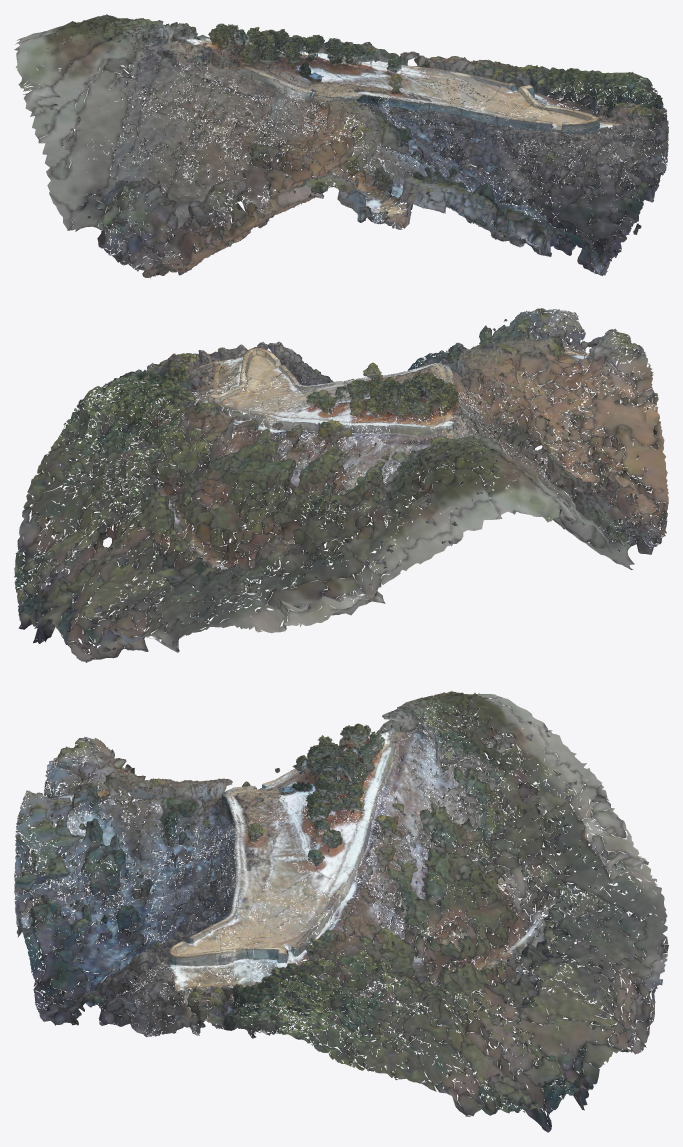
File: scan.glb
3 views of the same model, one above another, from view 1: azimuth 30°, elevation 25°; view 2: azimuth 150°, elevation 25°; view 3: azimuth 270°, elevation 25° (orthographic).
Parts seen in each view (by area): view 1: MeshTransform__0.026, MeshTransform__0.015, MeshTransform__0.023, MeshTransform__0.012, MeshTransform__0.021, MeshTransform__0.014, MeshTransform__0.022, MeshTransform__0.019, MeshTransform__0.032, MeshTransform__0.018, MeshTransform__0.020, MeshTransform__0.033 (+21 smaller); view 2: MeshTransform__0.029, MeshTransform__0.028, MeshTransform__0.002, MeshTransform__0.004, MeshTransform__0.005, MeshTransform__0.001, MeshTransform__0.019, MeshTransform__0.003, MeshTransform__0.021, MeshTransform, MeshTransform__0.026, MeshTransform__0.006 (+17 smaller); view 3: MeshTransform__0.004, MeshTransform__0.002, MeshTransform__0.029, MeshTransform__0.028, MeshTransform__0.005, MeshTransform__0.001, MeshTransform__0.031, MeshTransform__0.003, MeshTransform, MeshTransform__0.006, MeshTransform__0.008, MeshTransform__0.007 (+20 smaller).
Part boxes in pixels (bbox=[...]): MeshTransform__0.026: bbox=[15, 20, 329, 180]; MeshTransform__0.015: bbox=[45, 64, 366, 231]; MeshTransform__0.023: bbox=[95, 31, 404, 268]; MeshTransform__0.012: bbox=[531, 130, 645, 275]; MeshTransform__0.021: bbox=[202, 114, 492, 230]; MeshTransform__0.014: bbox=[174, 28, 294, 144]; MeshTransform__0.022: bbox=[261, 96, 434, 204]; MeshTransform__0.019: bbox=[101, 140, 485, 278]; MeshTransform__0.032: bbox=[383, 95, 553, 220]; MeshTransform__0.018: bbox=[206, 88, 331, 245]; MeshTransform__0.020: bbox=[276, 147, 497, 236]; MeshTransform__0.033: bbox=[431, 103, 542, 204]; MeshTransform__0.029: bbox=[195, 445, 426, 632]; MeshTransform__0.028: bbox=[320, 399, 566, 603]; MeshTransform__0.002: bbox=[26, 373, 208, 662]; MeshTransform__0.004: bbox=[87, 362, 367, 662]; MeshTransform__0.005: bbox=[153, 428, 325, 593]; MeshTransform__0.001: bbox=[14, 369, 175, 629]; MeshTransform__0.019: bbox=[464, 312, 668, 546]; MeshTransform__0.003: bbox=[90, 403, 284, 551]; MeshTransform__0.021: bbox=[479, 309, 658, 487]; MeshTransform: bbox=[14, 382, 123, 593]; MeshTransform__0.026: bbox=[349, 381, 605, 549]; MeshTransform__0.006: bbox=[179, 403, 361, 533]; MeshTransform__0.004: bbox=[205, 818, 668, 1045]; MeshTransform__0.002: bbox=[232, 955, 665, 1110]; MeshTransform__0.029: bbox=[424, 737, 667, 921]; MeshTransform__0.028: bbox=[361, 691, 607, 860]; MeshTransform__0.005: bbox=[360, 841, 588, 1003]; MeshTransform__0.001: bbox=[232, 968, 588, 1132]; MeshTransform__0.031: bbox=[18, 852, 171, 1012]; MeshTransform__0.003: bbox=[276, 881, 468, 1048]; MeshTransform: bbox=[254, 1006, 536, 1116]; MeshTransform__0.006: bbox=[290, 811, 462, 971]; MeshTransform__0.008: bbox=[232, 798, 314, 923]; MeshTransform__0.007: bbox=[252, 794, 385, 920].
Size of the model in its own units: 16 by 6.69 by 16.
Materials: 1 (1 with a texture image).
